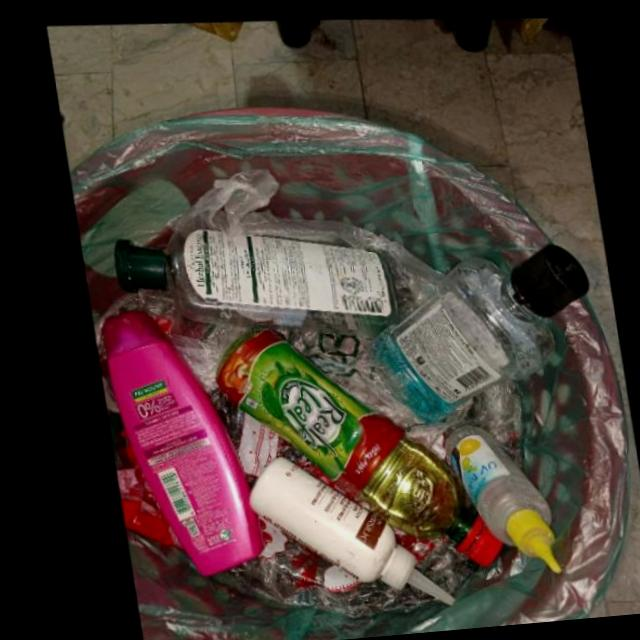chai_nhua: (207, 323, 496, 560), (98, 308, 256, 574), (366, 235, 585, 417), (245, 451, 450, 598), (111, 226, 393, 324), (434, 414, 555, 567)
